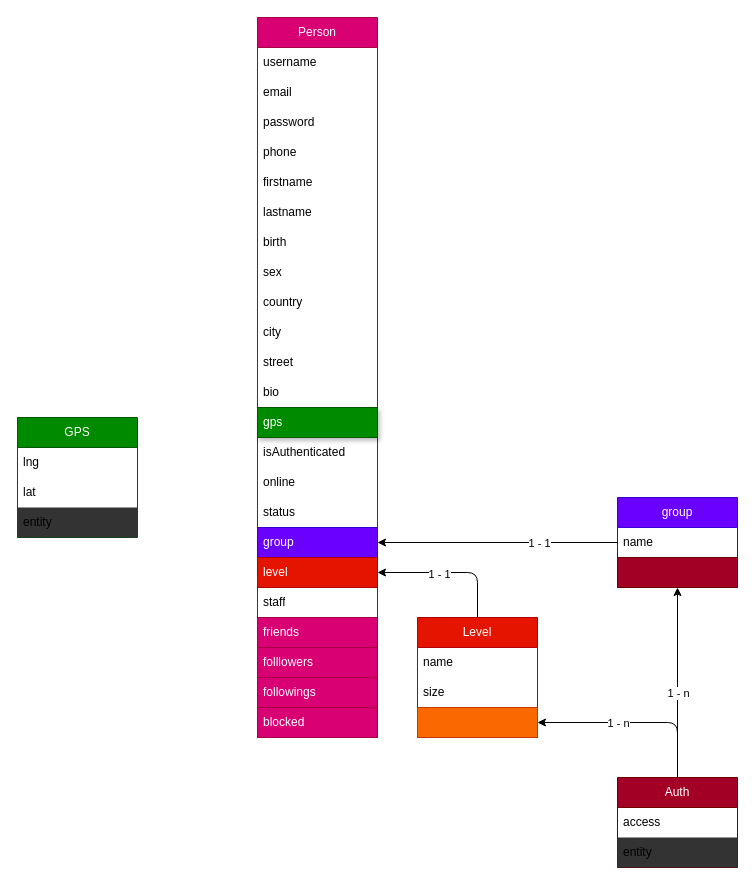
Some shapes in this 755 by 885 pixel diagram are drawn without their labels. Each missing label, with the centre of its shape:
"auths" belongs at point 677,572.
"performs" belongs at point 477,722.
